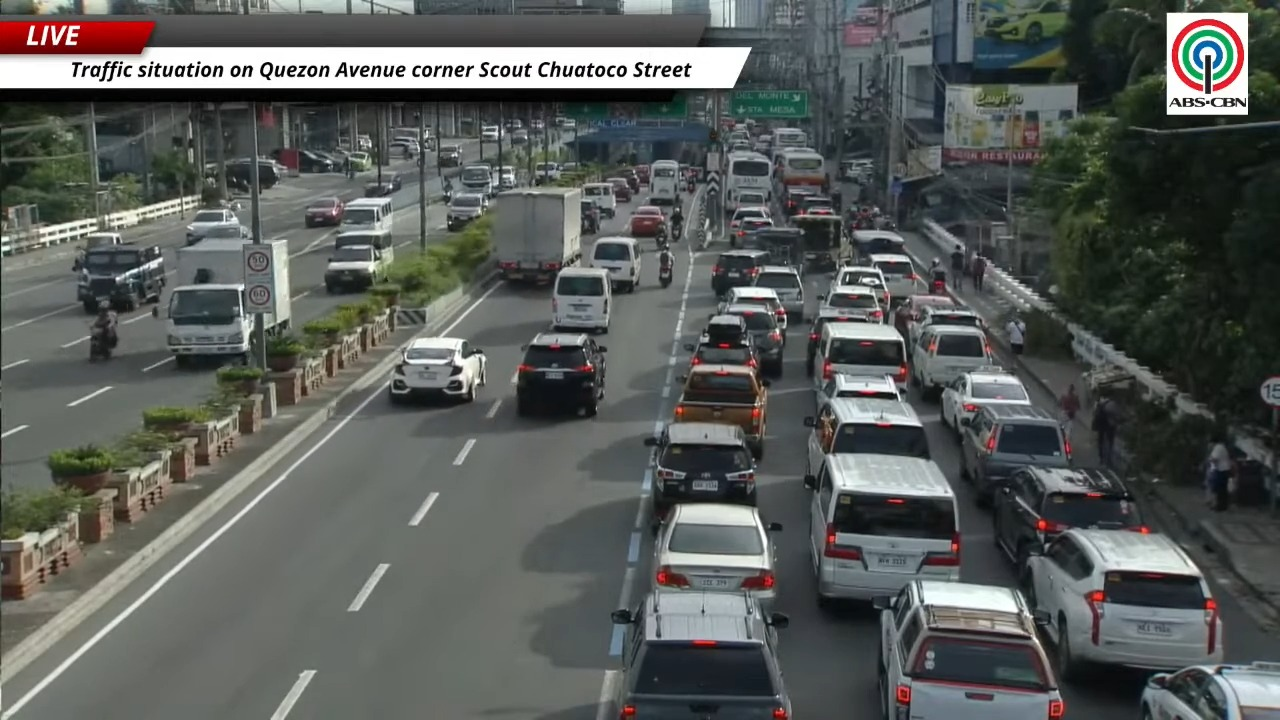car: (1025, 528, 1223, 679), (874, 580, 1065, 719), (600, 588, 791, 719), (992, 466, 1149, 573), (654, 503, 781, 608), (960, 405, 1071, 504), (645, 423, 756, 518), (805, 397, 930, 473), (1140, 661, 1279, 719), (516, 332, 606, 416), (388, 337, 486, 401), (912, 325, 997, 398), (940, 366, 1031, 432), (721, 304, 784, 377), (719, 285, 787, 343), (982, 0, 1067, 45), (806, 308, 862, 375), (815, 373, 903, 413), (324, 244, 392, 293), (893, 294, 959, 340), (754, 265, 804, 322), (908, 306, 985, 342), (711, 249, 769, 295), (818, 284, 885, 323), (868, 253, 919, 304), (831, 265, 890, 307), (185, 209, 239, 245), (684, 341, 758, 367), (446, 193, 488, 231), (699, 314, 748, 344), (628, 205, 668, 237), (731, 217, 774, 246), (729, 206, 771, 233), (304, 197, 343, 226), (782, 186, 817, 216), (364, 173, 402, 197), (202, 222, 251, 239), (298, 150, 334, 172), (308, 149, 341, 171), (732, 190, 767, 210), (605, 177, 633, 201), (388, 138, 421, 157), (800, 195, 833, 213), (534, 162, 561, 184), (494, 165, 517, 189), (437, 144, 462, 166), (346, 151, 372, 171), (480, 125, 499, 141), (510, 129, 528, 144), (561, 118, 576, 130)
motorcycle: (89, 328, 112, 361), (659, 265, 672, 288), (930, 276, 946, 293), (656, 236, 669, 251), (673, 223, 682, 241), (687, 179, 695, 193)
truck: (163, 239, 291, 366), (673, 364, 769, 458), (491, 187, 581, 283)
